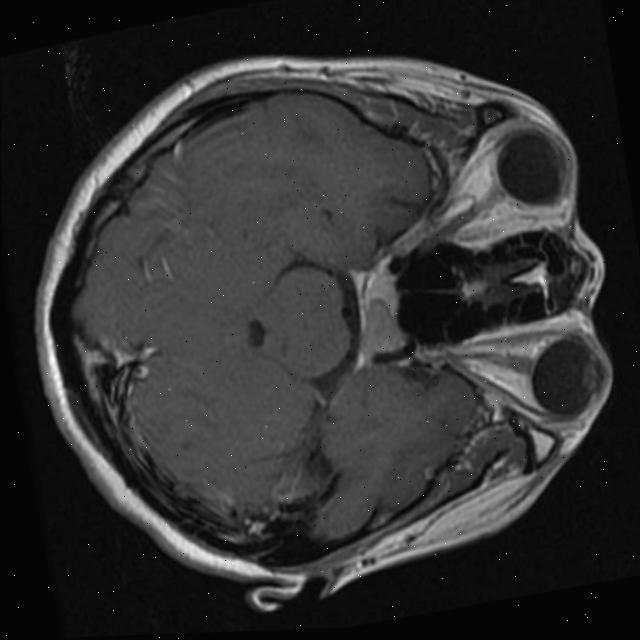Pituitary: (354, 271, 409, 358)
